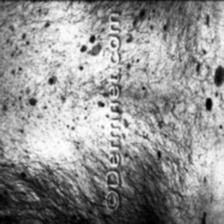Potentially Malignant Skin Tumors: (0, 10, 105, 152), (173, 148, 224, 224), (125, 1, 170, 78), (198, 53, 224, 113)
